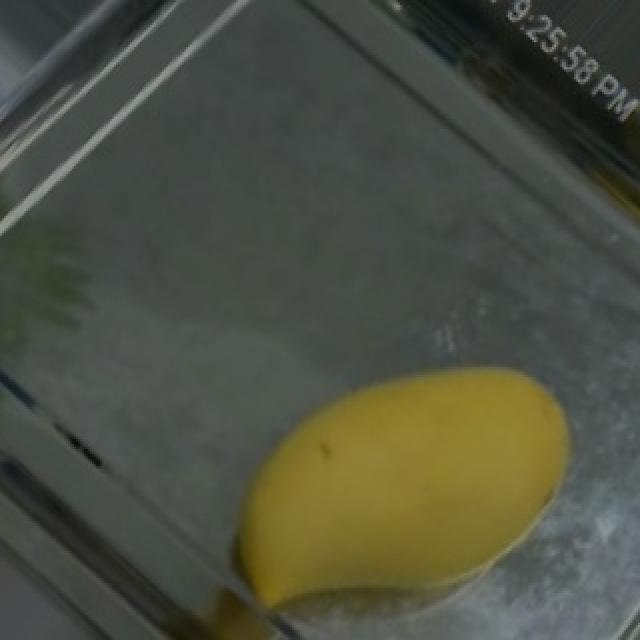fruit: (268, 295, 612, 640)
